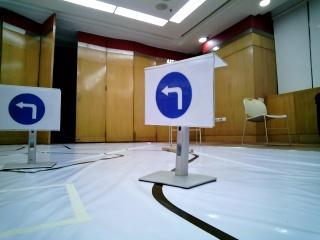left: (143, 69, 208, 123), (2, 86, 60, 130)
